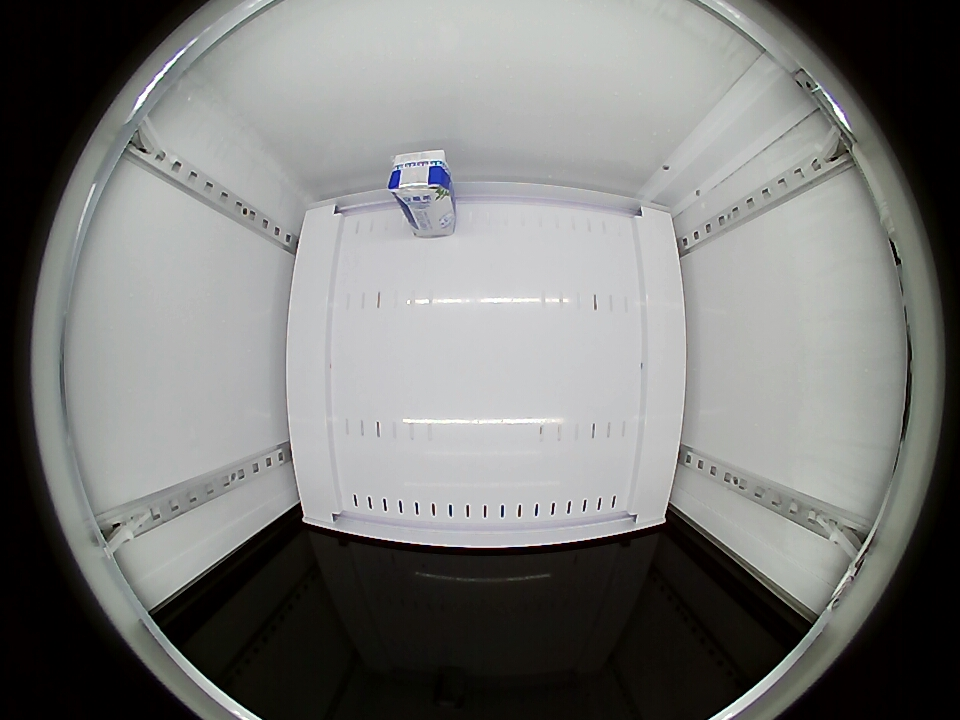anmuxi: (387, 151, 452, 204)
